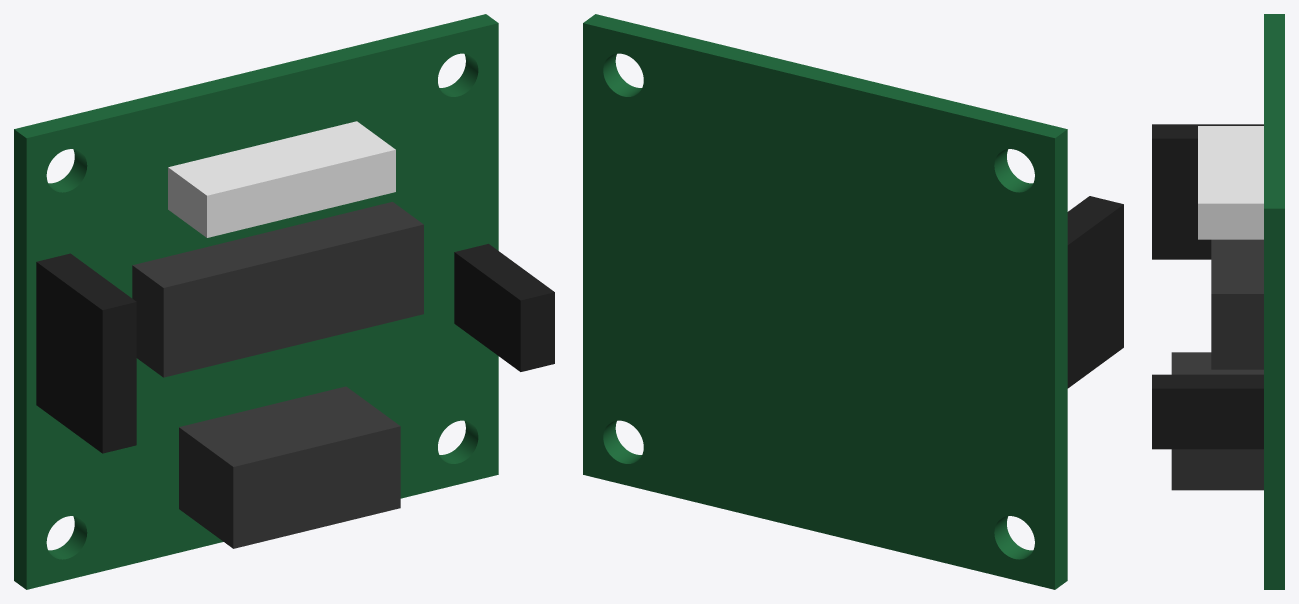
The model's file is m0_driver.glb.
The picture shows the model from 3 angles, left to right: view 1: azimuth 30°, elevation 25°; view 2: azimuth 150°, elevation 25°; view 3: azimuth 270°, elevation 25°; orthographic projection. The views are drawn at different scales.
Parts seen in each view (by area): view 1: pcb_0, uln2003_1, motor_socket_2, leds_3, header_in_4, header_pwr_5; view 2: pcb_0, header_in_4; view 3: pcb_0, header_pwr_5, leds_3, uln2003_1, header_in_4, motor_socket_2.
Part boxes in pixels (<box>): pcb_0: <box>14,14,498,589</box>; uln2003_1: <box>132,202,423,377</box>; motor_socket_2: <box>179,386,400,548</box>; leds_3: <box>168,121,395,237</box>; header_in_4: <box>36,253,136,453</box>; header_pwr_5: <box>454,243,554,371</box>; pcb_0: <box>583,14,1067,589</box>; header_in_4: <box>1067,196,1123,388</box>; pcb_0: <box>1264,14,1284,589</box>; header_pwr_5: <box>1152,374,1263,449</box>; leds_3: <box>1198,126,1263,239</box>; uln2003_1: <box>1211,239,1263,369</box>; header_in_4: <box>1152,124,1263,259</box>; motor_socket_2: <box>1171,352,1263,490</box>.
Size of the model in its own units: 35 by 32 by 10.1.
